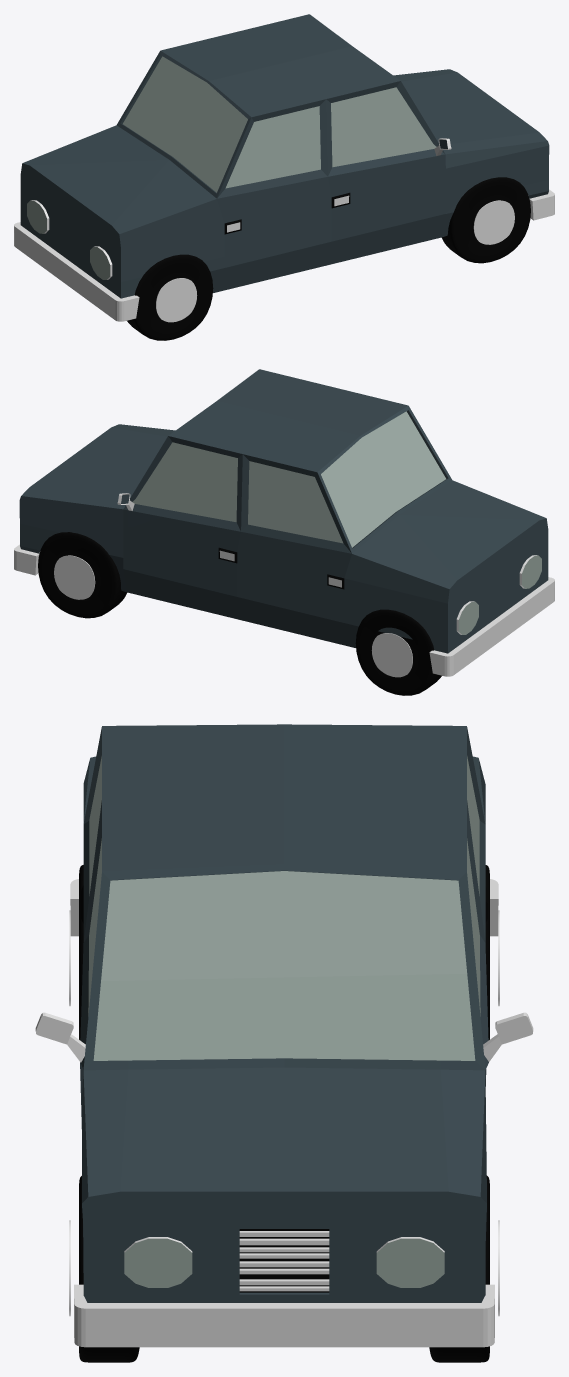
Rendered from Car.fbx.
The picture shows the model from 3 angles, top to bottom: view 1: azimuth 30°, elevation 25°; view 2: azimuth 150°, elevation 25°; view 3: azimuth 270°, elevation 25°; orthographic projection. The views are drawn at different scales.
Visible parts, largest first — view 1: BLACK; view 2: BLACK; view 3: BLACK.
Part boxes in pixels (left/top/right/bottom): BLACK: left=14, top=14, right=554, bottom=340; BLACK: left=14, top=369, right=554, bottom=695; BLACK: left=35, top=724, right=533, bottom=1362.
Bounding box in the file's own units: 766 × 335 × 375.
